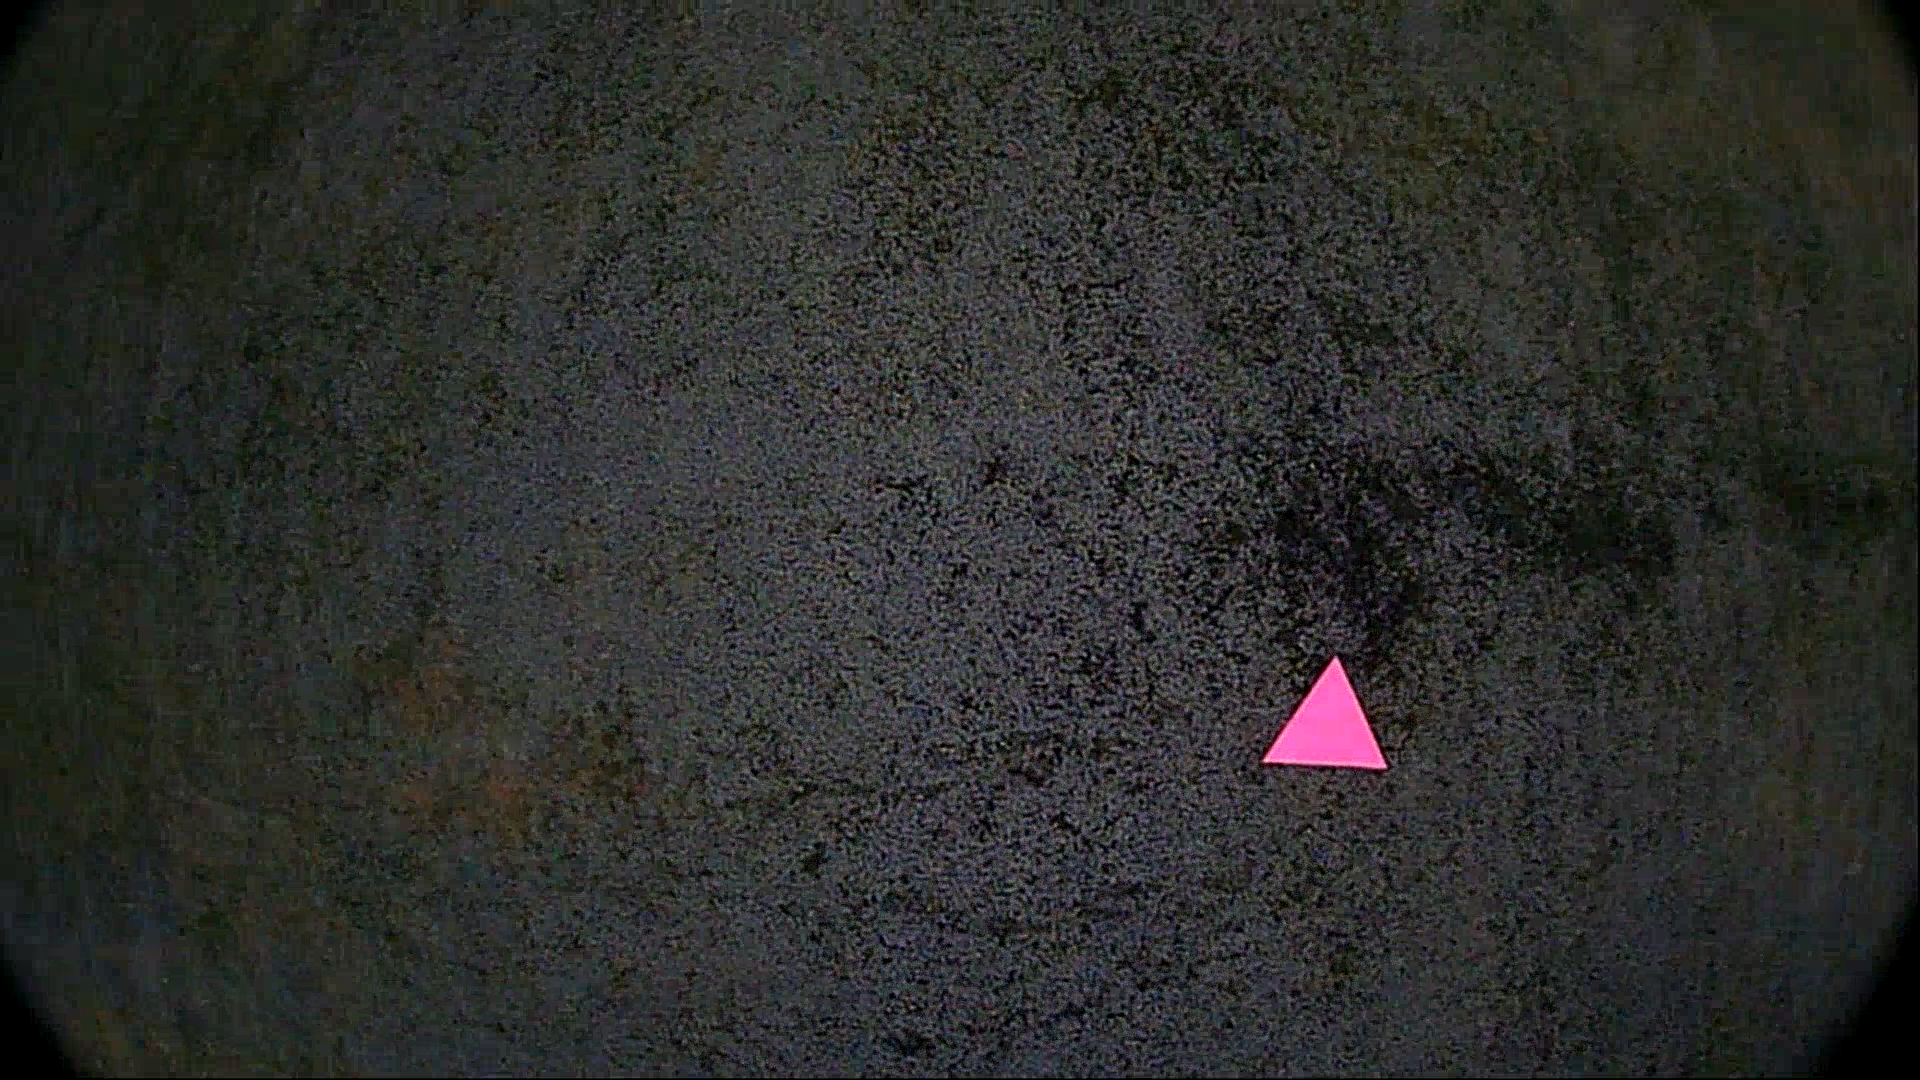triangle: (1255, 647, 1396, 782)
